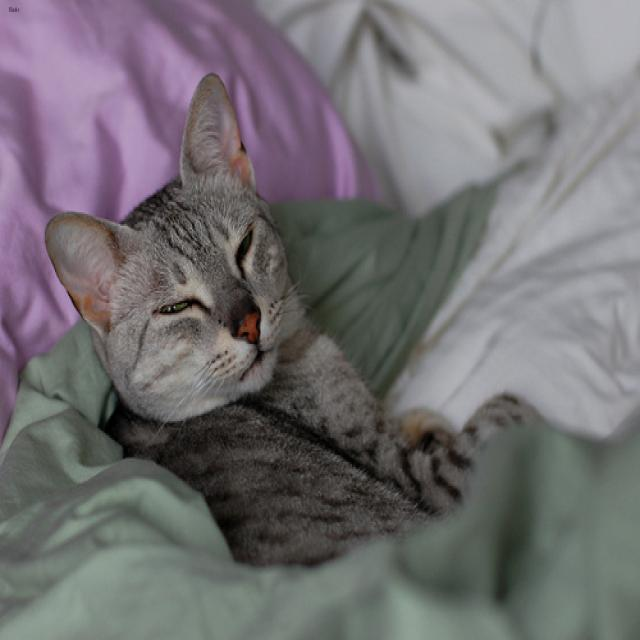Egyptian_Mau: (42, 72, 284, 419)
